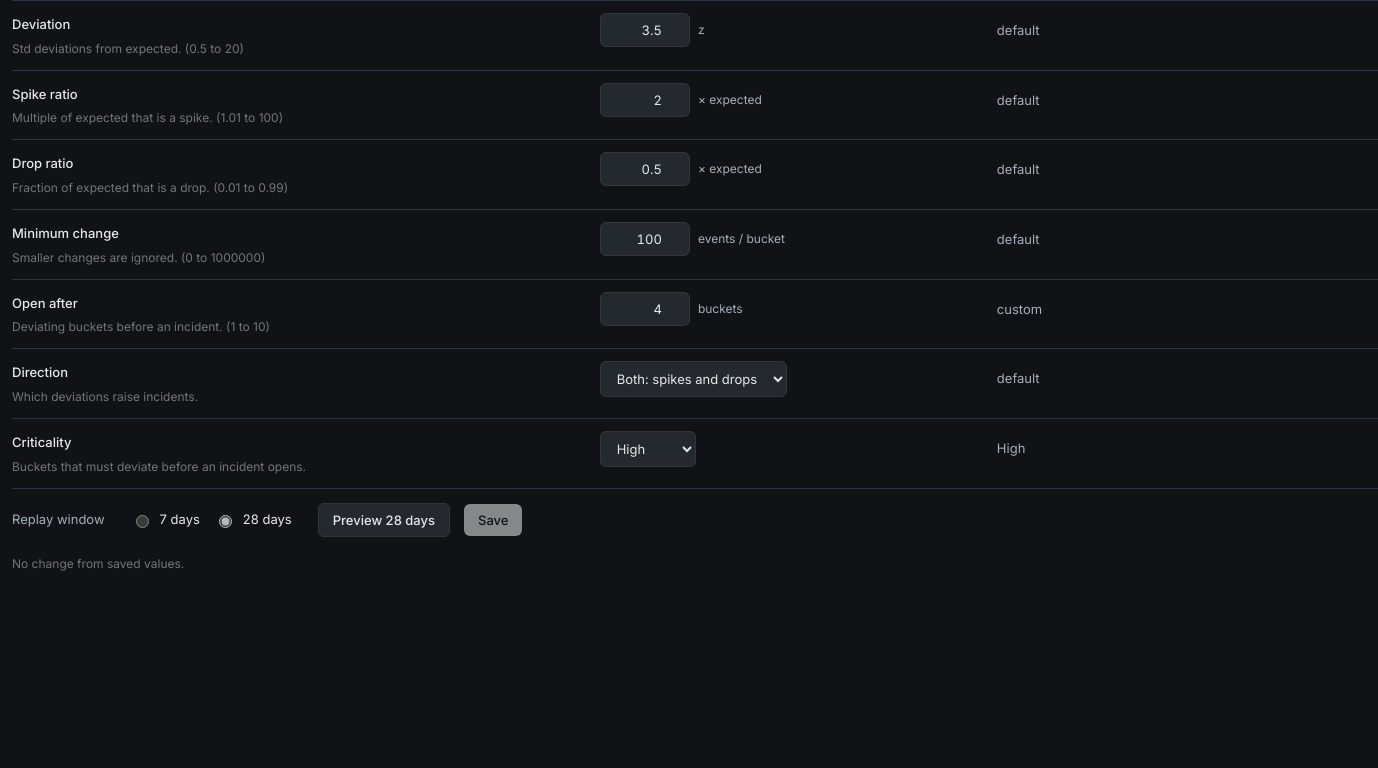
Test: the tuning form › refuses an impossible value before any request and names the bound
Replace the text in the number field labelled "Drop ratio" with "1.5": (645, 169) top-left (600, 152), bottom-right (690, 186)
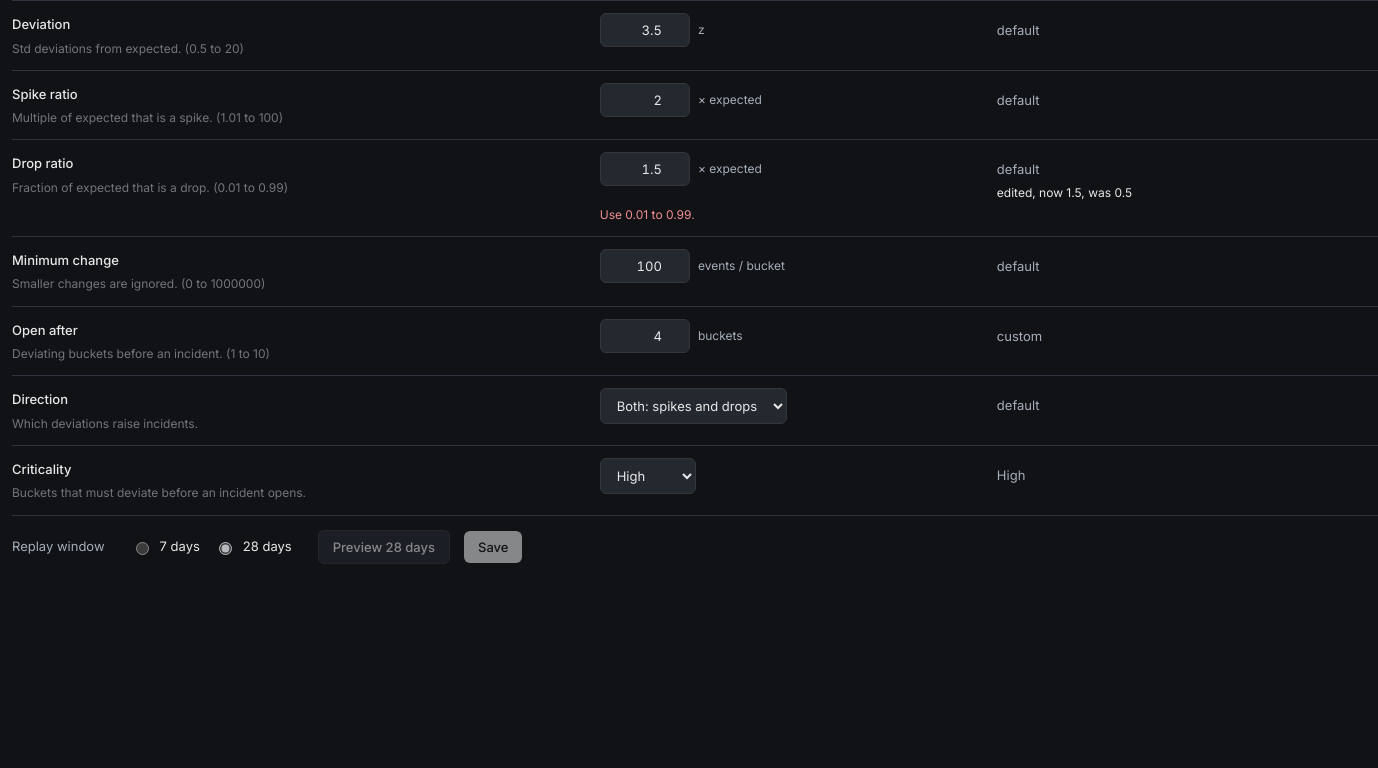
Now the message reads "Use 0.01 to 0.99.", box top-left (600, 207), bottom-right (695, 222)
Now the button "Preview 28 days" is disabled, box top-left (318, 530), bottom-right (450, 564)
Replace the text in the number field labelled "Open after" with "2.5": (645, 336) top-left (600, 319), bottom-right (690, 353)
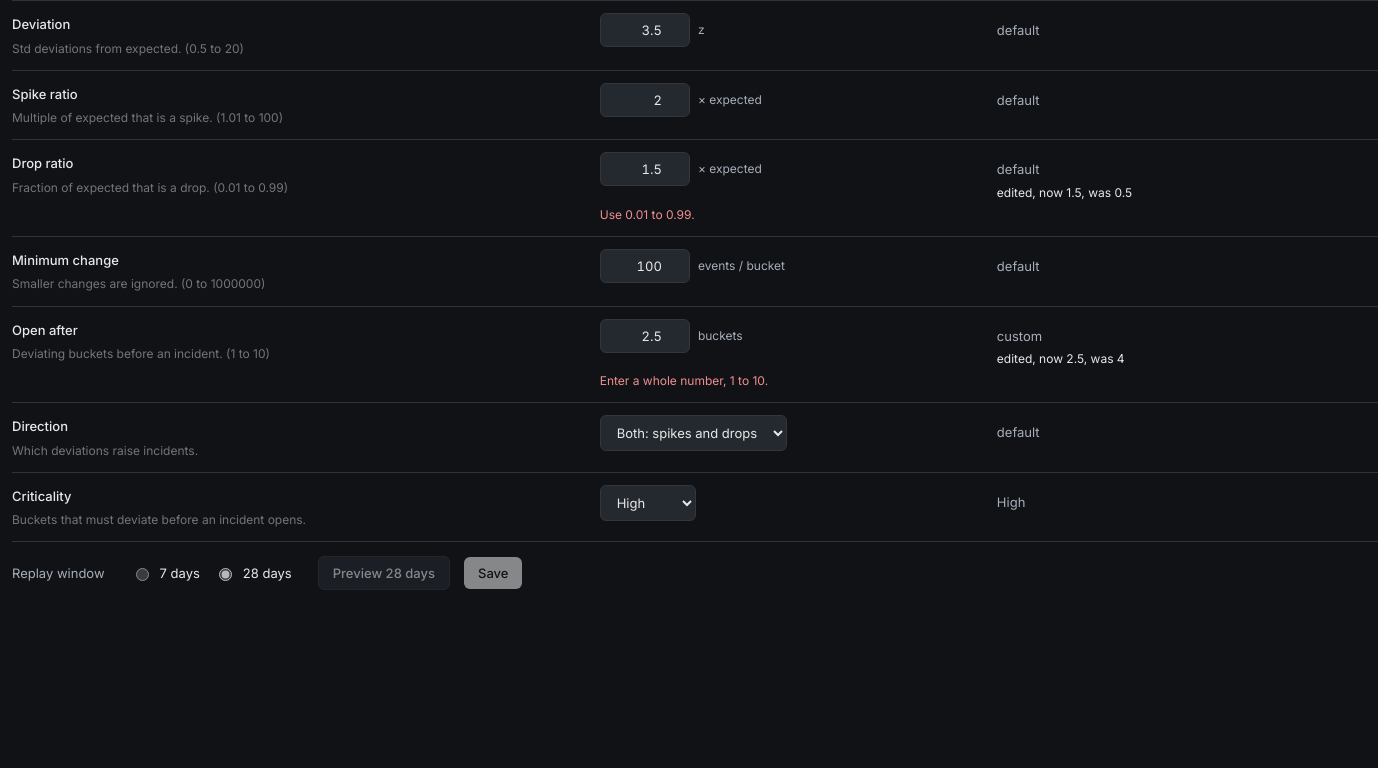
Now the text "Enter a whole number, 1 to 10." is shown, box top-left (600, 373), bottom-right (768, 388)
